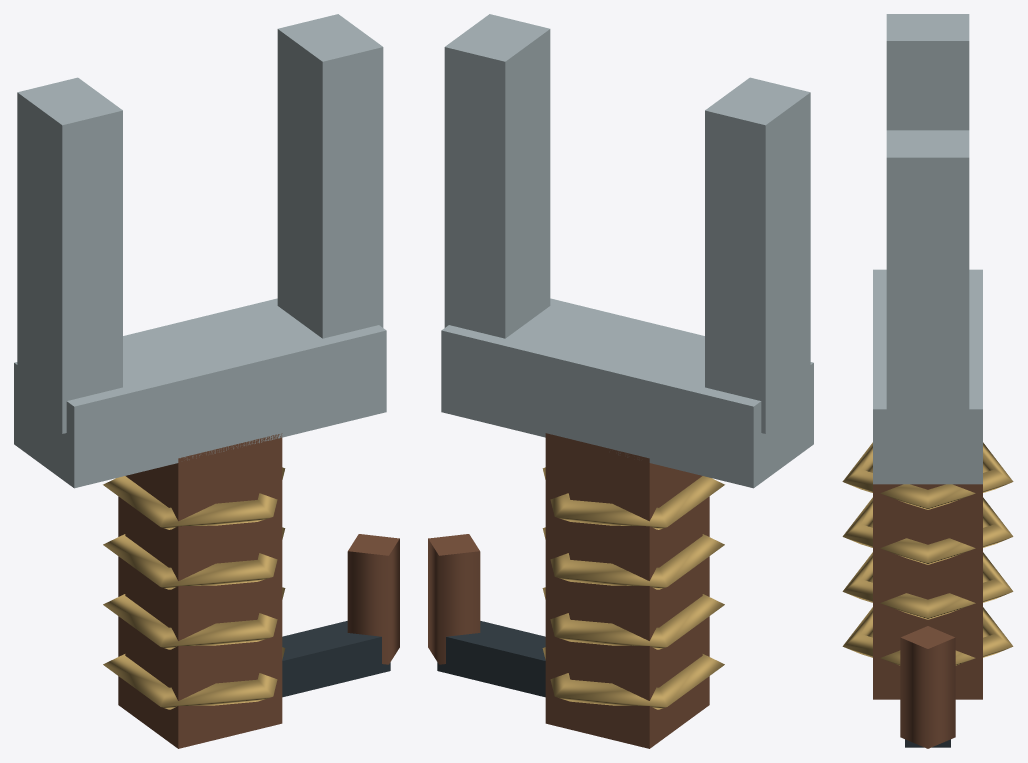
The model's file is fixed-coilKey-lod2.glb.
The picture shows the model from 3 angles, left to right: view 1: azimuth 30°, elevation 25°; view 2: azimuth 150°, elevation 25°; view 3: azimuth 270°, elevation 25°; orthographic projection. The views are drawn at different scales.
Visible parts, largest first — view 1: piece_whole; view 2: piece_whole; view 3: piece_whole.
Part boxes in pixels (<box>): piece_whole: <box>14,14,399,748</box>; piece_whole: <box>428,14,813,748</box>; piece_whole: <box>842,14,1013,748</box>.
Size of the model in its own units: 0.415 by 0.71 by 0.1864.
